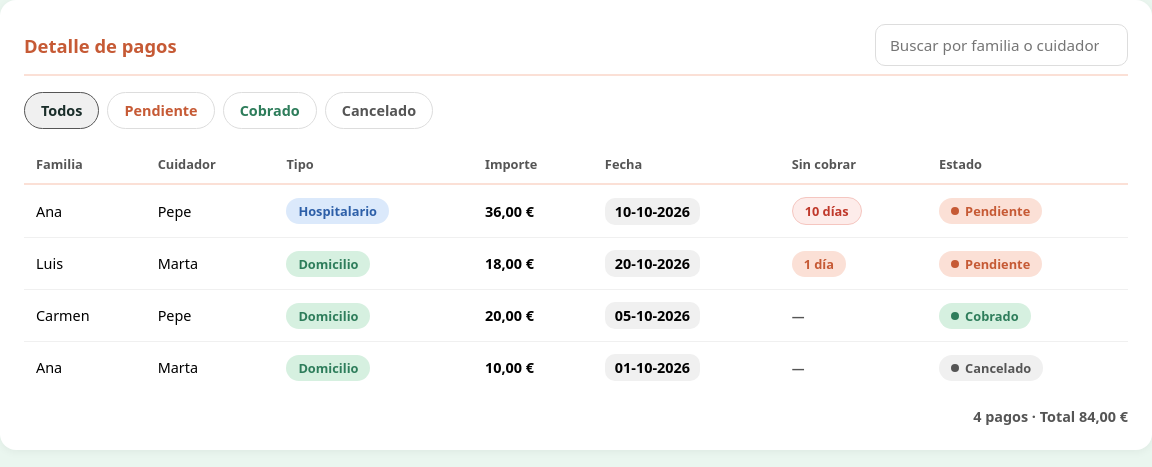
Test case: AdminPagosTabla › el pie cuenta los pagos mostrados y suma su importe
Check: the text with class "admin-pagos-tabla__pie" reads "4 pagos · Total 84,00 €", box top-left (973, 407), bottom-right (1128, 426)
In the search field with placeholder "Buscar por familia o cuidador": (1002, 45) top-left (875, 24), bottom-right (1128, 66), type "carmen"
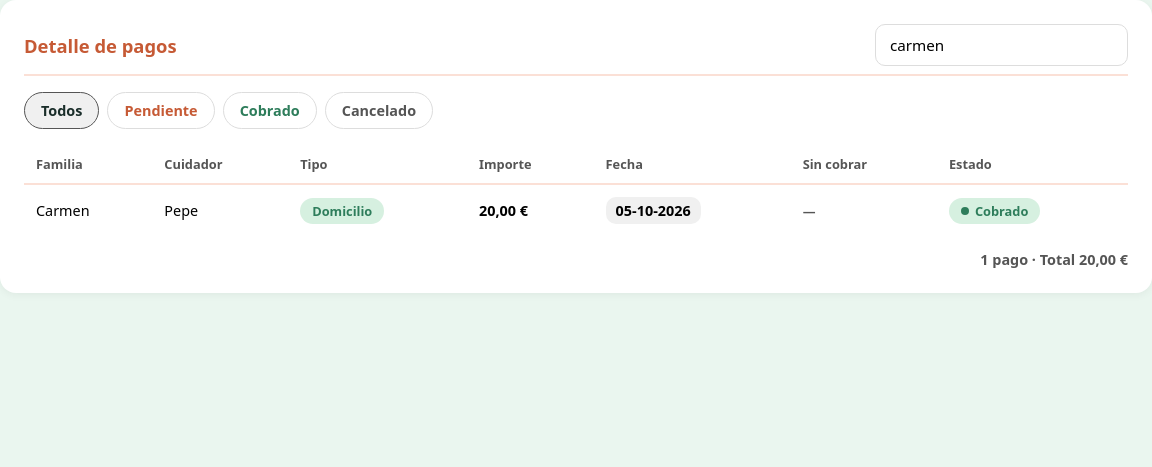
Check: the text with class "admin-pagos-tabla__pie" reads "1 pago · Total 20,00 €", box top-left (980, 250), bottom-right (1128, 269)
